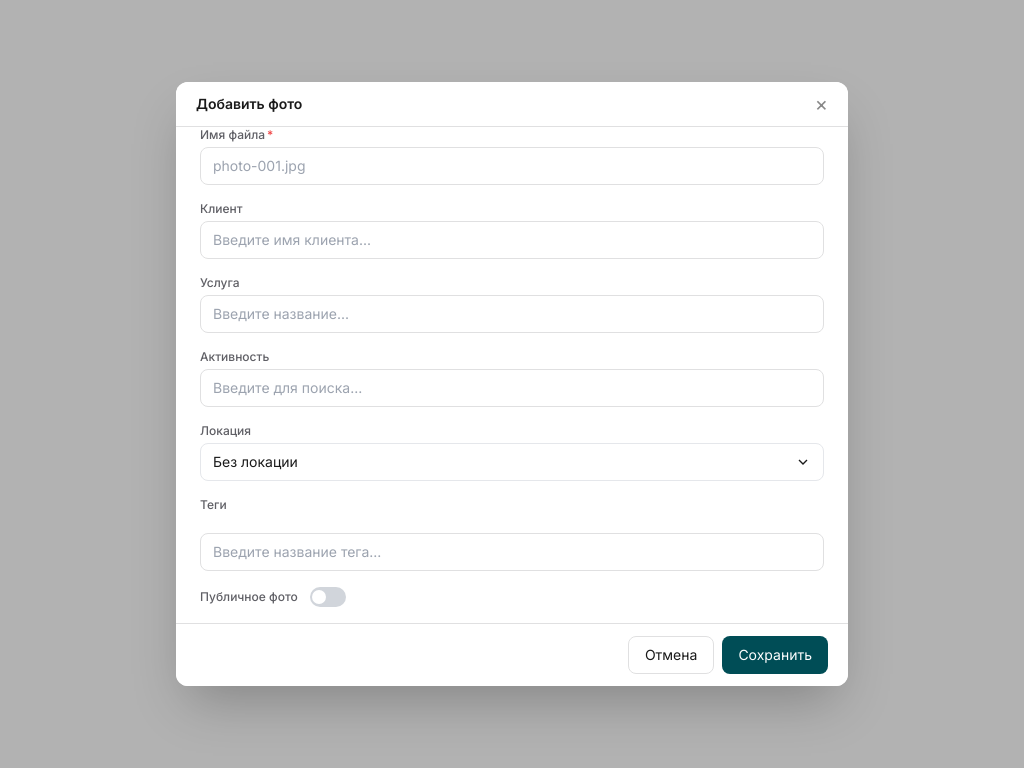
it: PhotoModal — canonical activity label (spec §7.7) › renders options AND the selected value via formatActivityLabel
Click the button with test id "combobox-trigger" at (255, 462), box [200, 443, 824, 481]
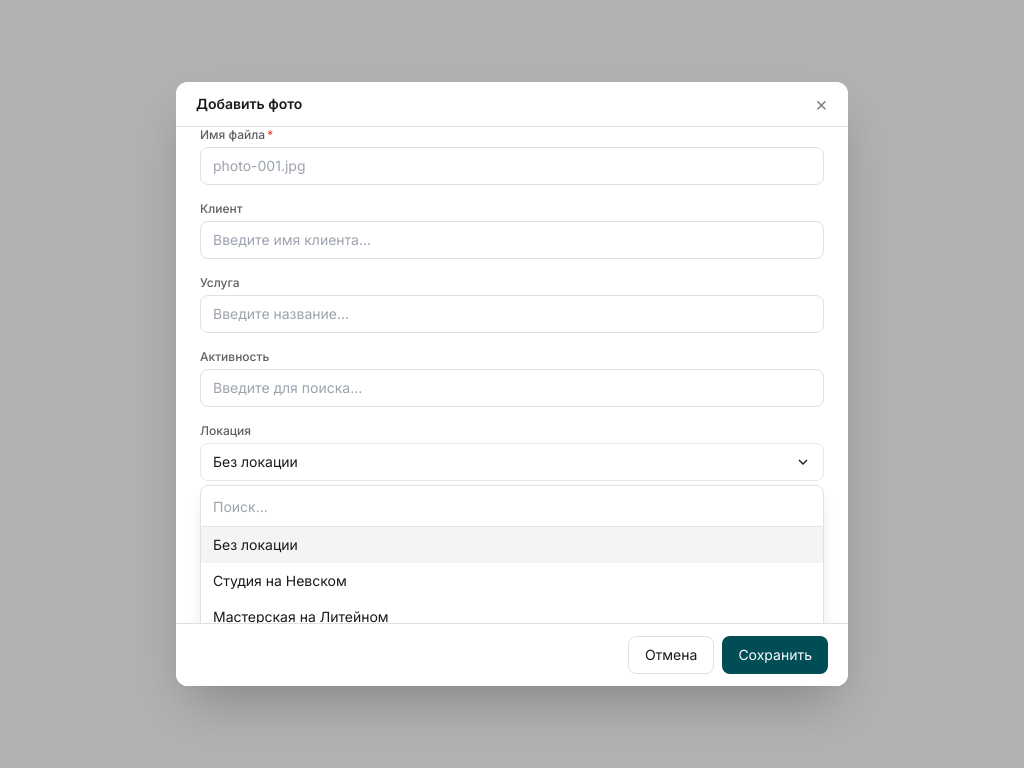
Now the option with test id "combobox-option-loc-1" is shown, box [201, 563, 823, 599]
Click the button with test id "combobox-trigger" at (255, 462), box [200, 443, 824, 481]
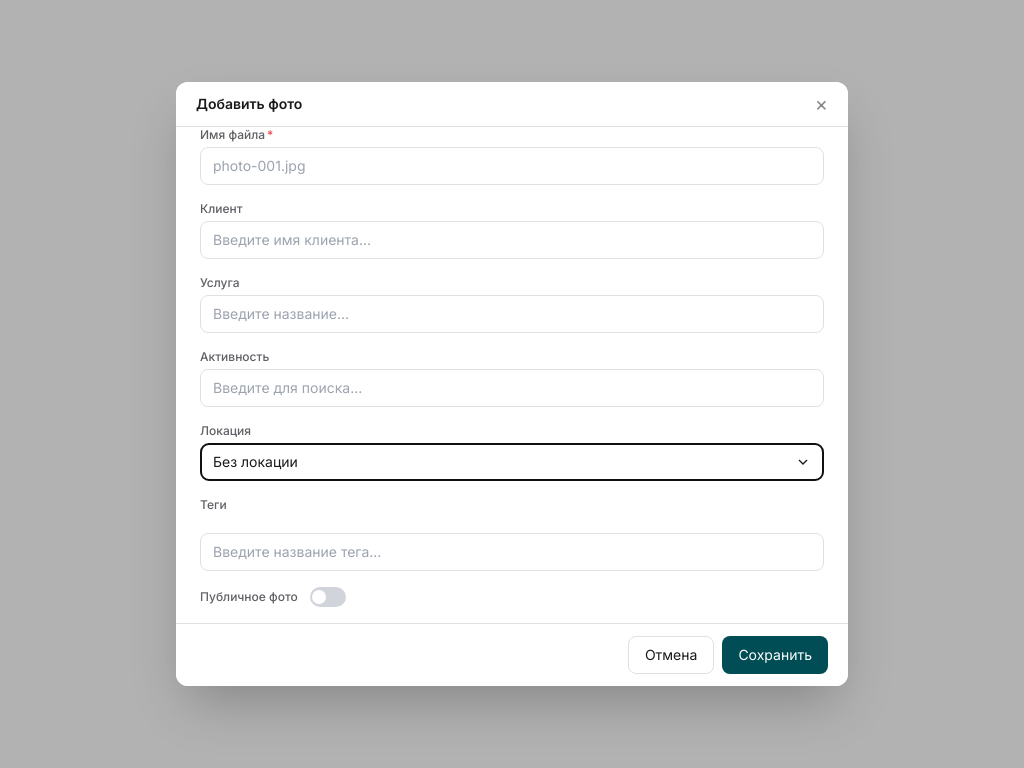
Type "Ма" into the field named "Активность" at (512, 388), box [200, 369, 824, 407]
Wait 300 ms
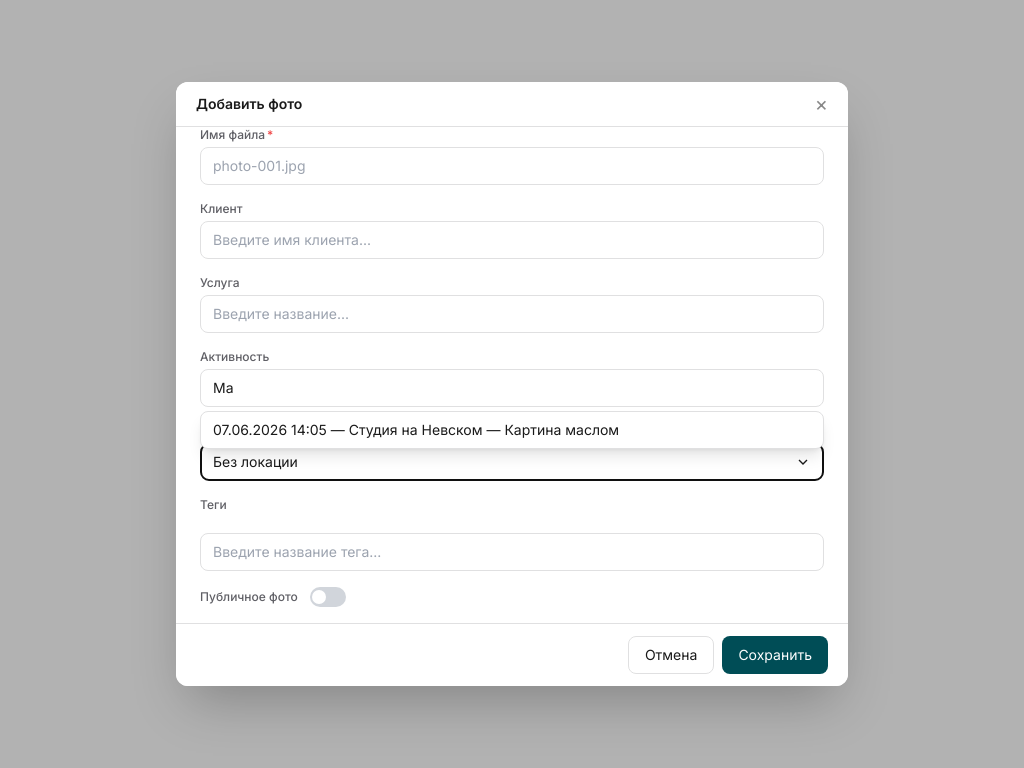
Click the option "07.06.2026 14:05 — Студия на Невском — Картина маслом" at (416, 430), box [213, 421, 619, 438]
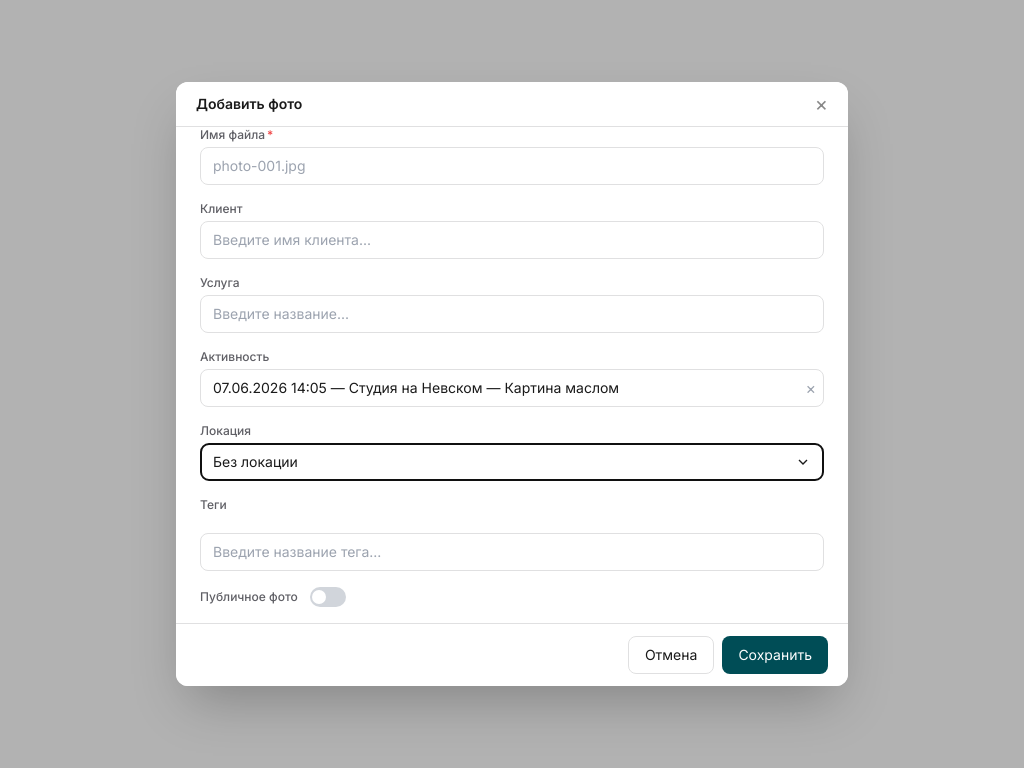
Now the field named "Активность" holds "07.06.2026 14:05 — Студия на Невском — Картина маслом", box [200, 369, 824, 407]
